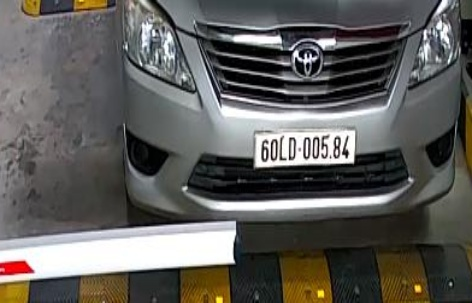plate: (246, 124, 358, 172)
